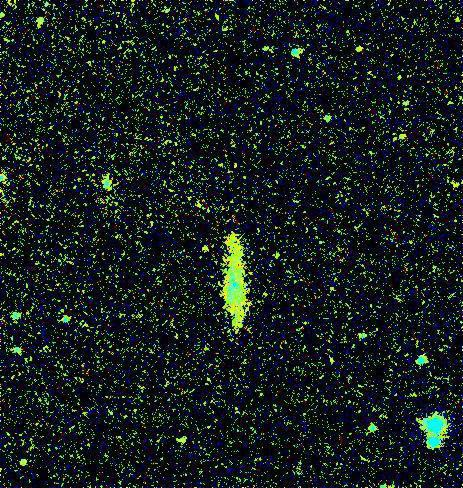star: (261, 240, 291, 270)
